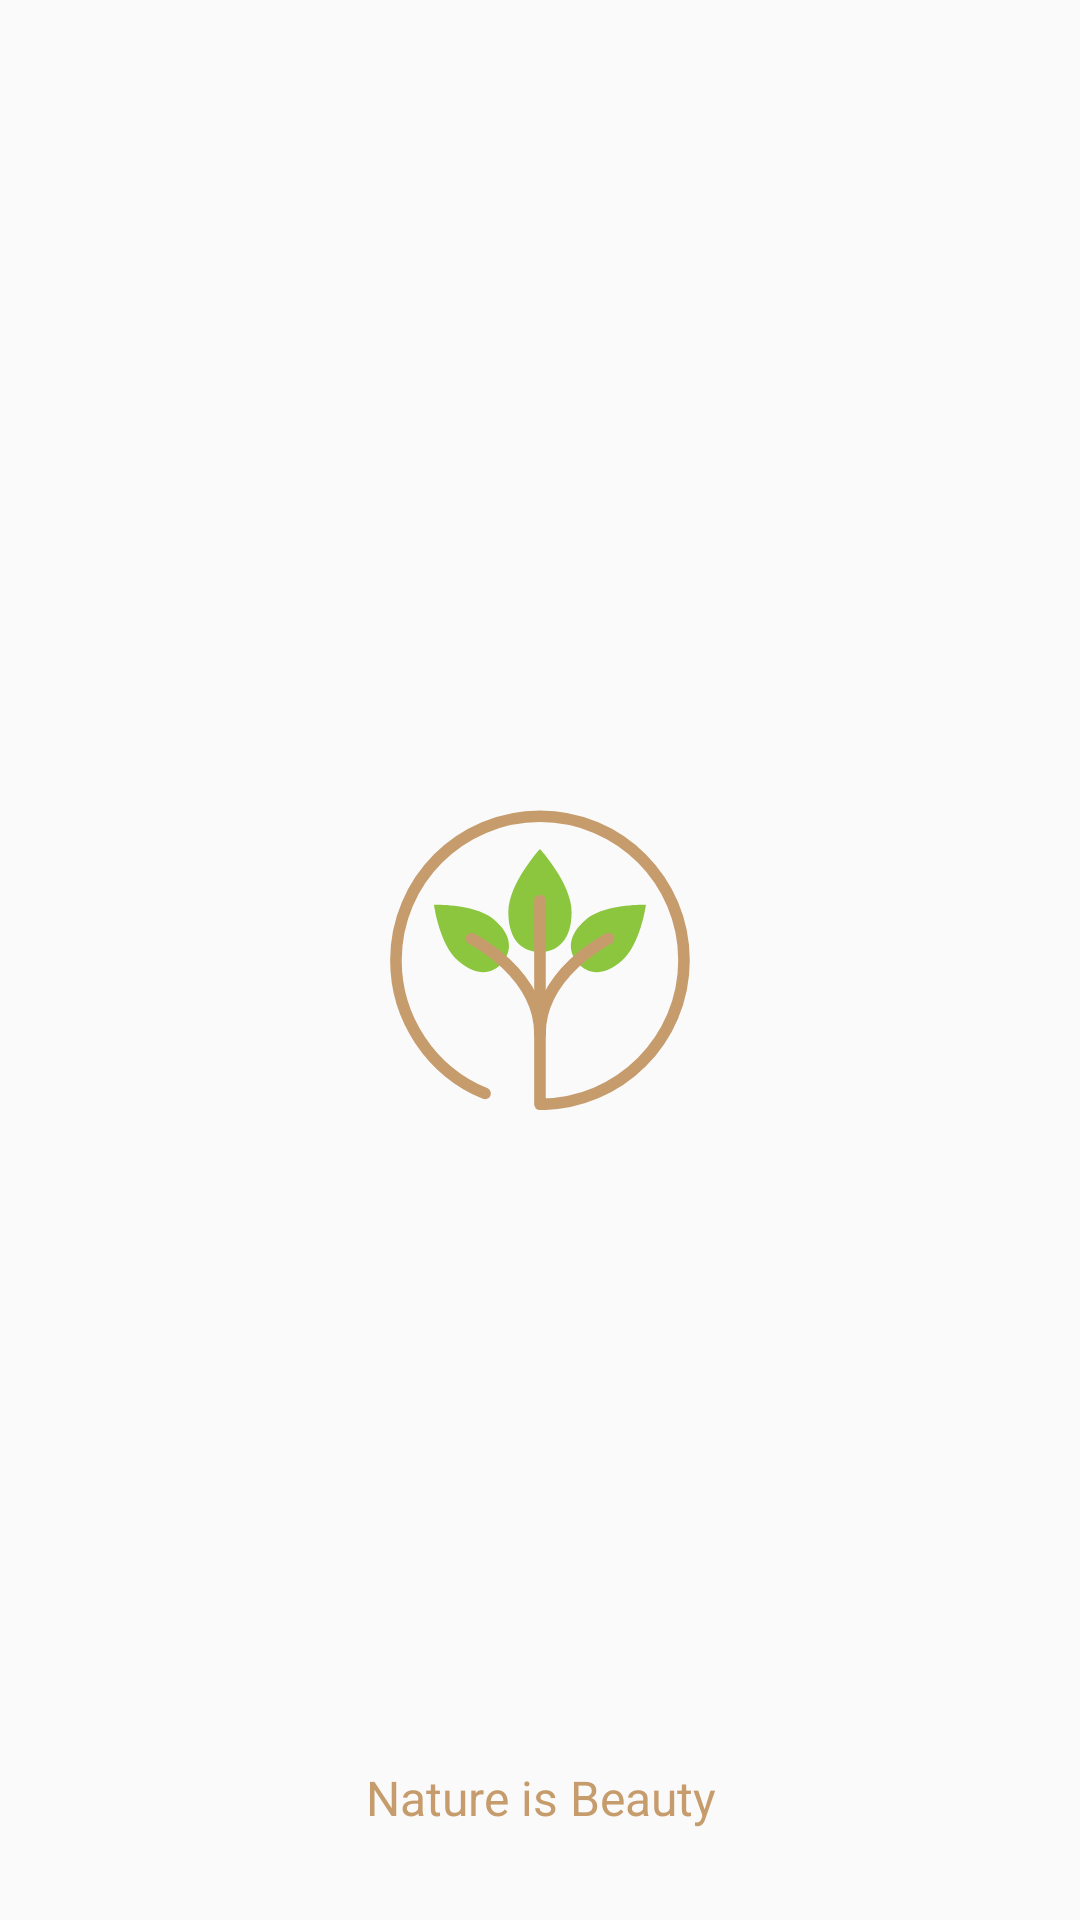

Locate icon controls on the screen. Image size 1080×1920, boxes as region(x1, y1, x2, y2).
weplant: region(390, 810, 690, 1110)
